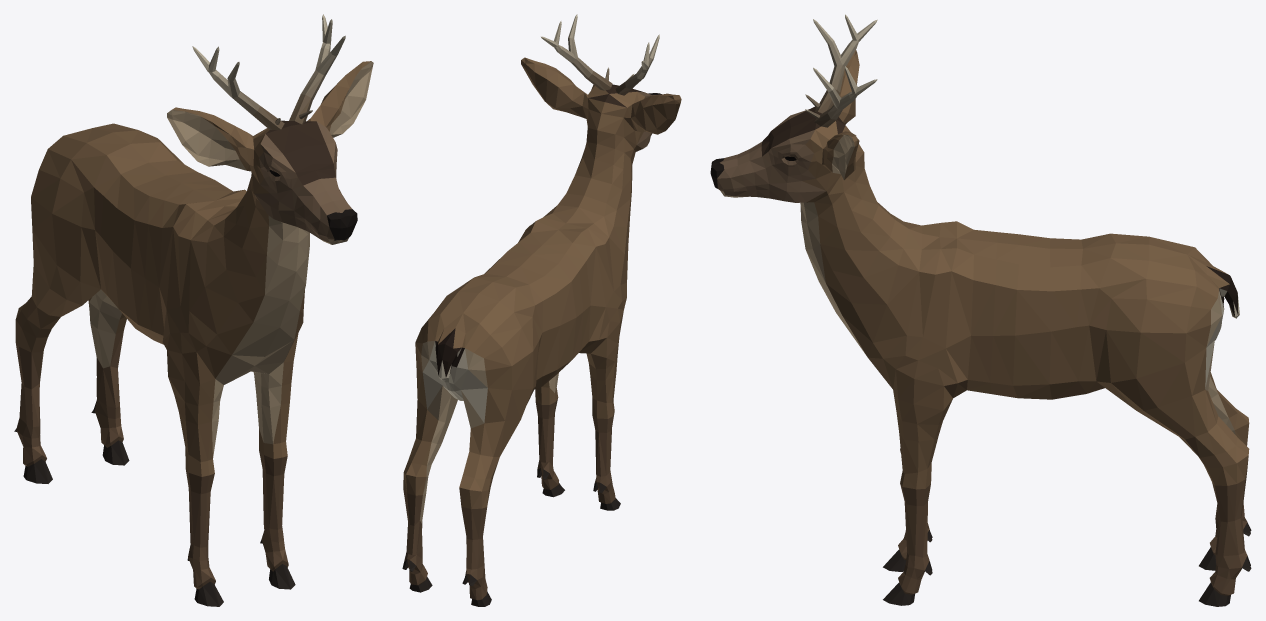
File: deer_buck.glb
3 renders of one model, left to right at view 1: azimuth 30°, elevation 25°; view 2: azimuth 150°, elevation 25°; view 3: azimuth 270°, elevation 25°, orthographic. The views are drawn at different scales.
Parts seen in each view (by area): view 1: lod0; view 2: lod0; view 3: lod0.
Part boxes in pixels (left/top/right/bottom): lod0: left=14, top=14, right=373, bottom=606; lod0: left=402, top=14, right=681, bottom=606; lod0: left=710, top=14, right=1251, bottom=606.
Size of what is drawn, in the model's own units: 0.5787 by 1.55 by 1.4.
